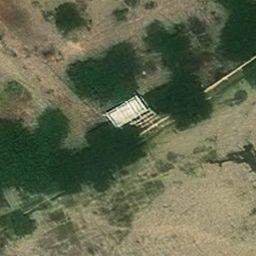manzanas: (104, 94, 150, 129)
